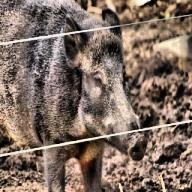boar: (0, 0, 148, 191)
